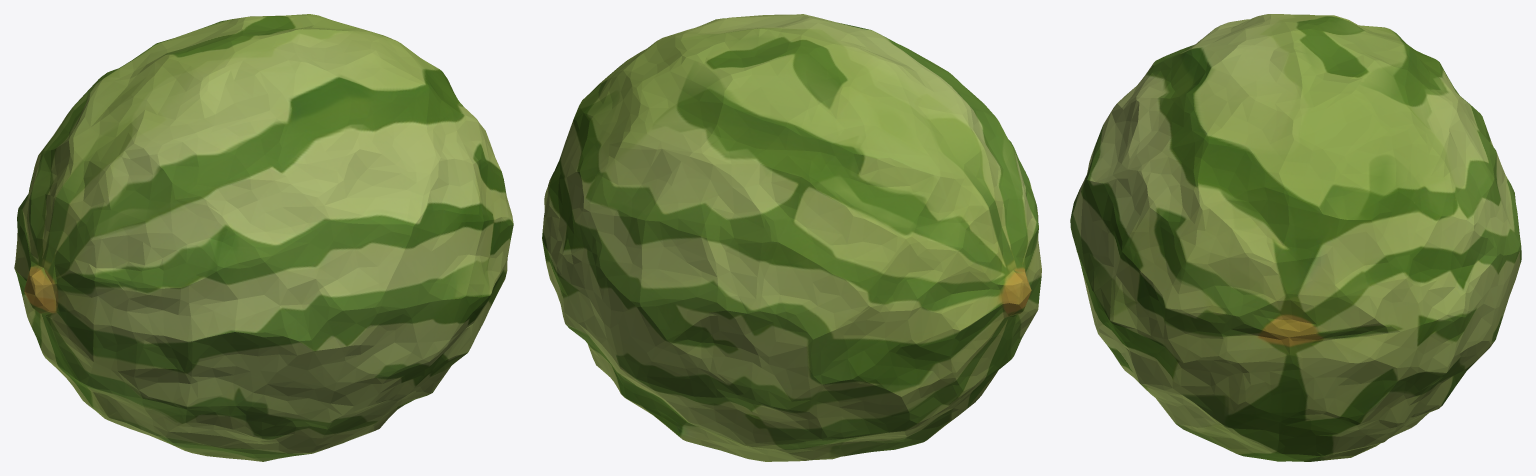
Rendered from mini-seedless-watermelon-1-each-4075c9.glb.
The picture shows the model from 3 angles, left to right: view 1: azimuth 30°, elevation 25°; view 2: azimuth 150°, elevation 25°; view 3: azimuth 270°, elevation 25°; orthographic projection.
Parts seen in each view (by area): view 1: tmpovgzwzca.ply; view 2: tmpovgzwzca.ply; view 3: tmpovgzwzca.ply.
Part boxes in pixels (bbox=[...]): tmpovgzwzca.ply: bbox=[14, 14, 513, 461]; tmpovgzwzca.ply: bbox=[542, 14, 1041, 461]; tmpovgzwzca.ply: bbox=[1070, 14, 1521, 461].
Bounding box in the file's own units: 1.99 × 1.72 × 1.76.
1 material, 1 textured.
